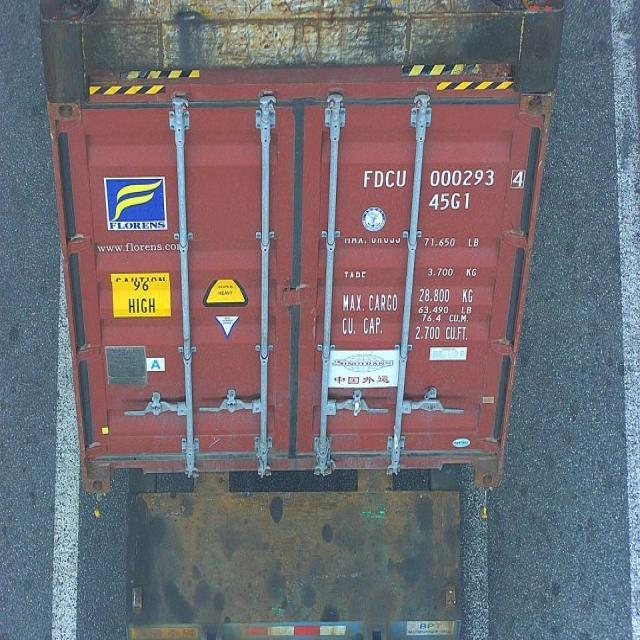ISO: (430, 192, 473, 210)
container_number: (359, 168, 527, 192)
